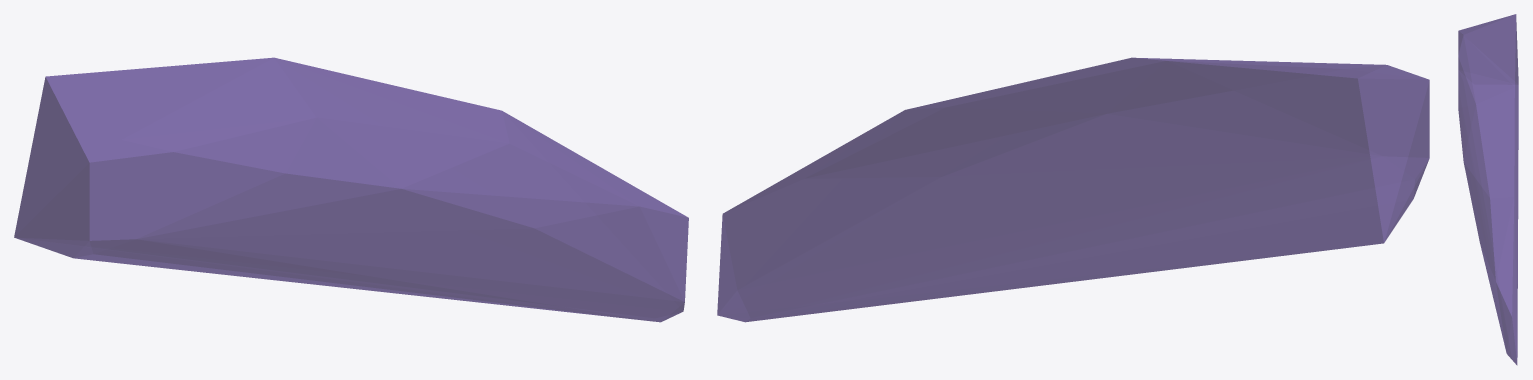
3 views of the same model, side by side, from view 1: azimuth 30°, elevation 25°; view 2: azimuth 150°, elevation 25°; view 3: azimuth 270°, elevation 25° (orthographic). The views are drawn at different scales.
Parts seen in each view (by area): view 1: Shape_IndexedFaceSet.012_Shape_IndexedFaceSet.417; view 2: Shape_IndexedFaceSet.012_Shape_IndexedFaceSet.417; view 3: Shape_IndexedFaceSet.012_Shape_IndexedFaceSet.417.
Boxes of the visible parts, bbox=[...] form: Shape_IndexedFaceSet.012_Shape_IndexedFaceSet.417: bbox=[14, 57, 688, 322]; Shape_IndexedFaceSet.012_Shape_IndexedFaceSet.417: bbox=[717, 57, 1429, 322]; Shape_IndexedFaceSet.012_Shape_IndexedFaceSet.417: bbox=[1458, 14, 1518, 365].
Size of the model in its own units: 0.2599 by 0.1457 by 0.0408.
